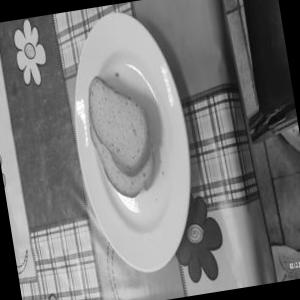bread: (61, 56, 174, 212)
